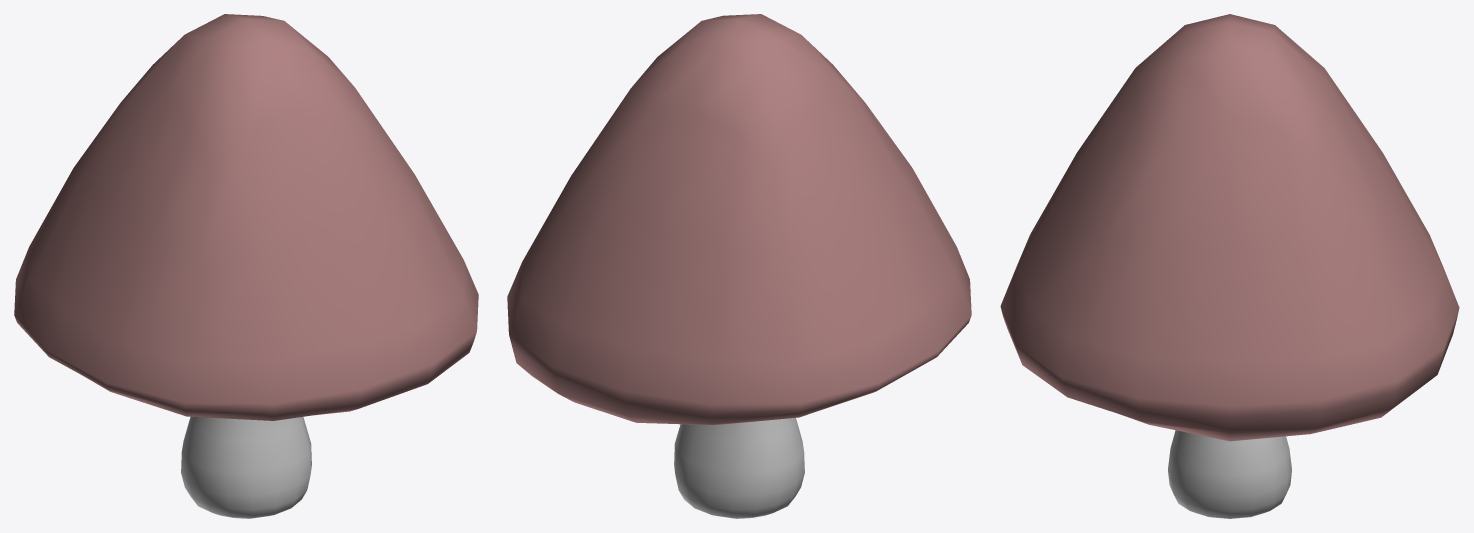
Rendered from M_Mushroom1a 1.fbx.
3 renders of one model, left to right at view 1: azimuth 30°, elevation 25°; view 2: azimuth 150°, elevation 25°; view 3: azimuth 270°, elevation 25°, orthographic.
Parts seen in each view (by area): view 1: polySurface83; view 2: polySurface83; view 3: polySurface83.
Boxes of the visible parts, left/top/right/bottom form: polySurface83: left=14, top=14, right=478, bottom=518; polySurface83: left=507, top=14, right=971, bottom=518; polySurface83: left=1000, top=14, right=1459, bottom=518.
Size of the model in its own units: 0.3282 by 0.378 by 0.3282.
